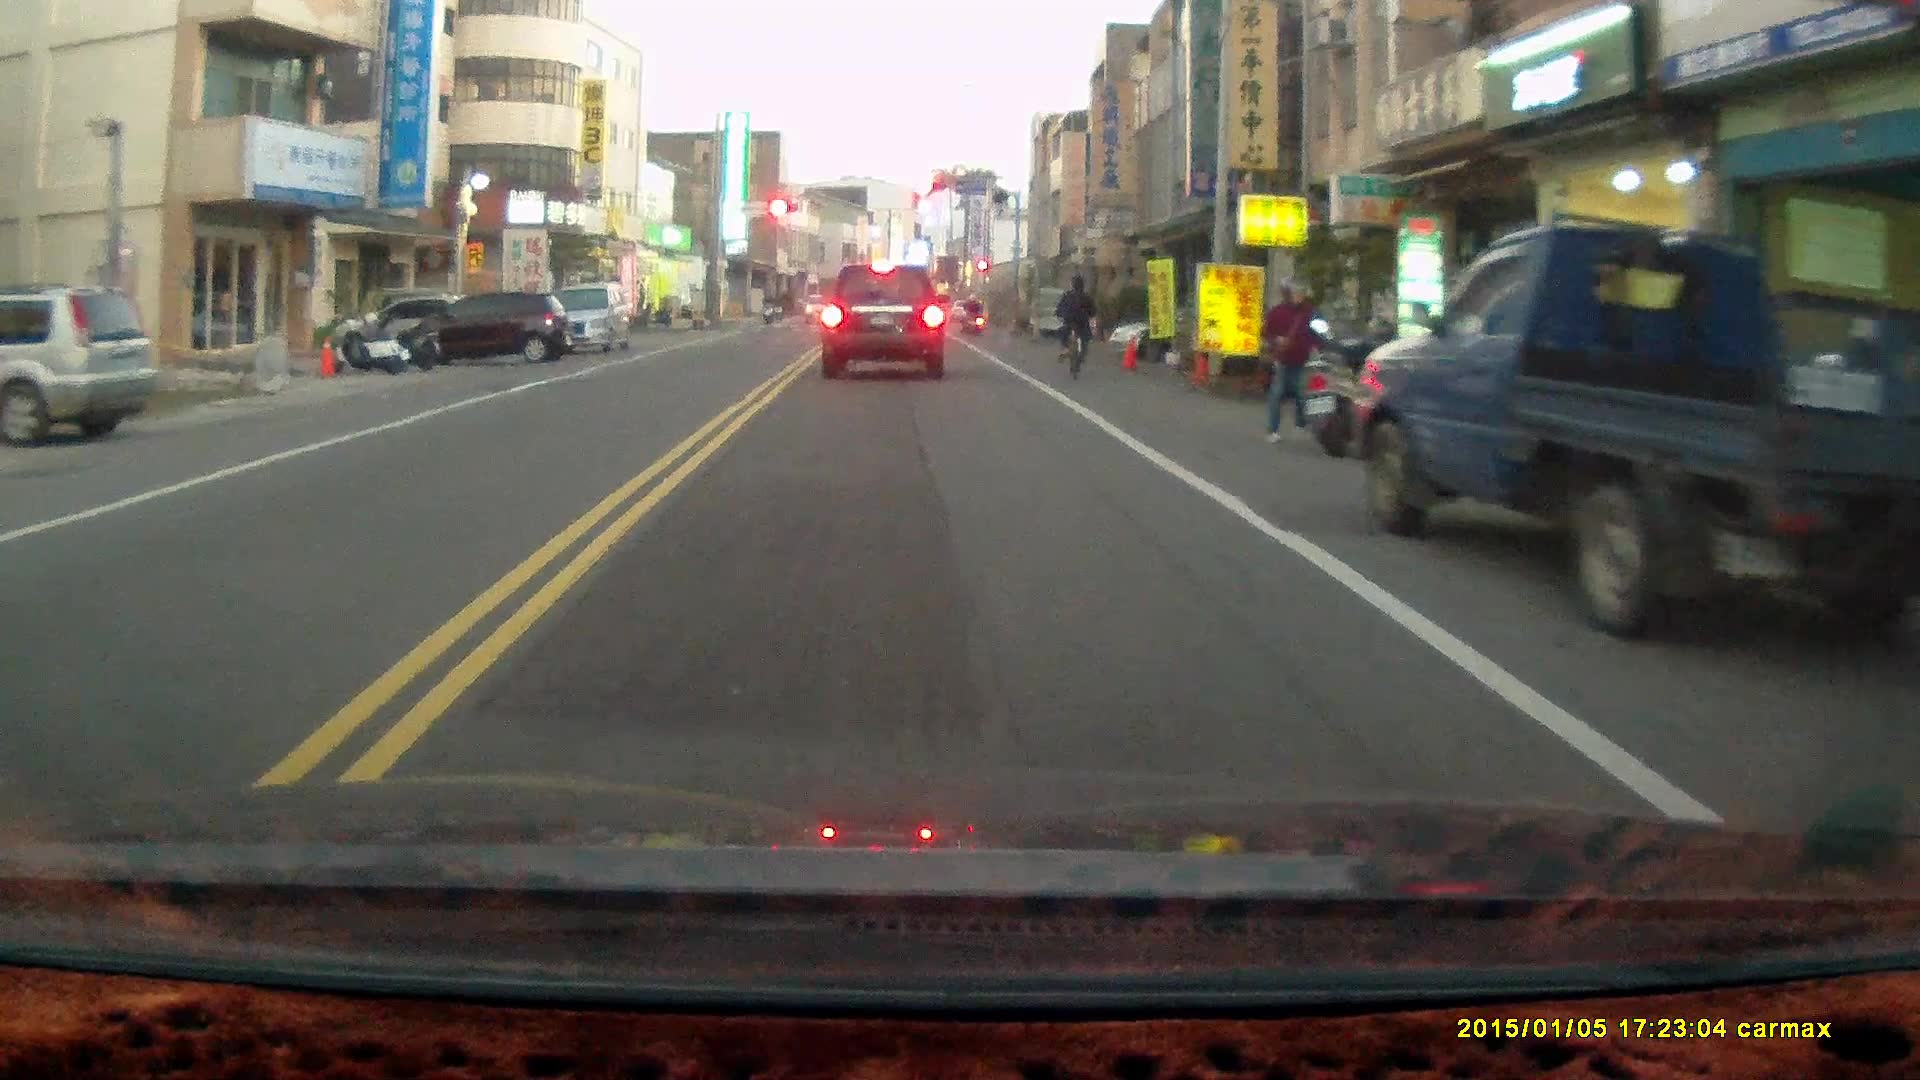pedestrian: (1261, 276, 1318, 446)
rider: (1054, 271, 1095, 383)
vehicle: (1349, 211, 1920, 642), (1, 282, 158, 446), (818, 264, 948, 384), (410, 293, 572, 367), (515, 282, 641, 358)
